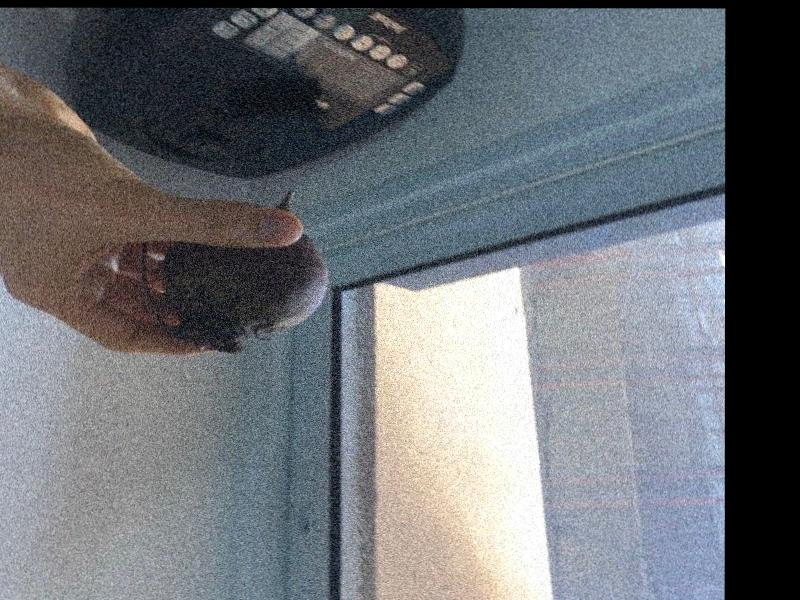Beet: (144, 191, 328, 353)
